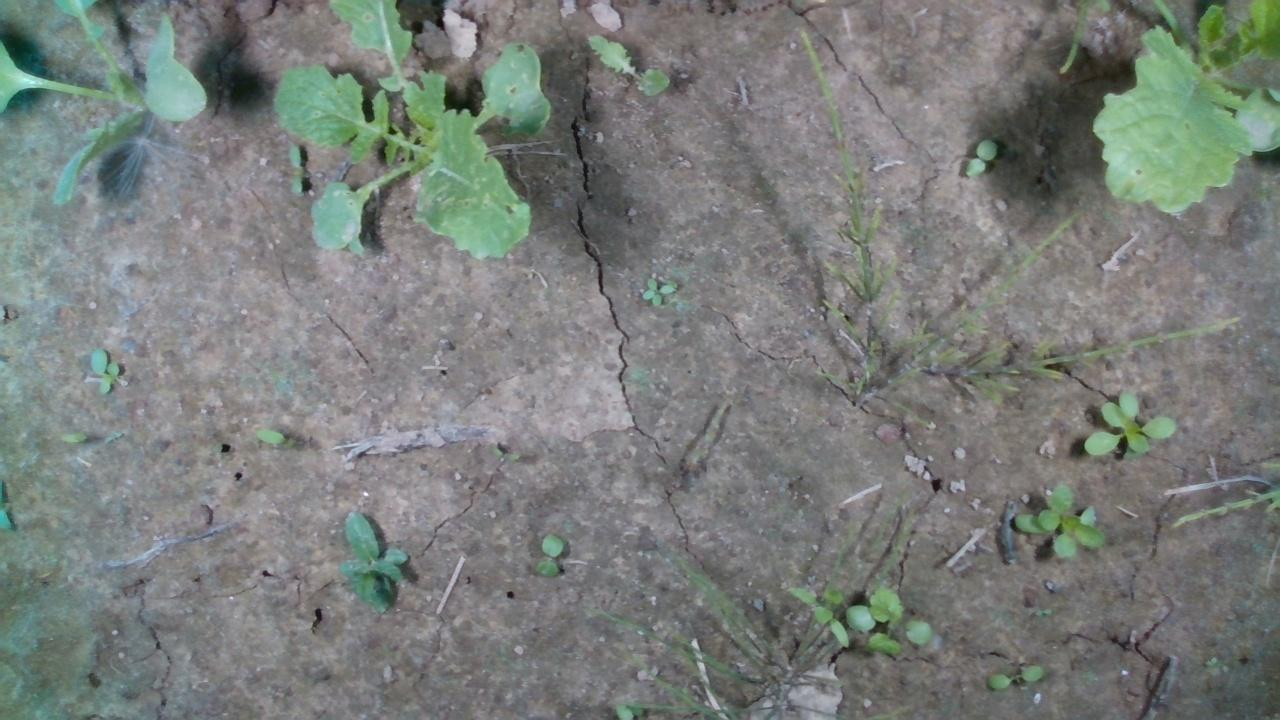weed: (86, 345, 121, 393), (984, 663, 1044, 689), (963, 137, 999, 179), (532, 531, 563, 578), (640, 277, 678, 307)
